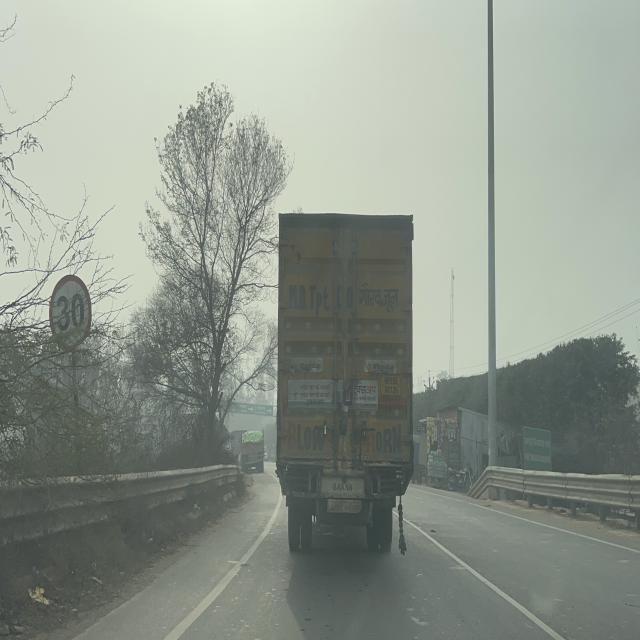SPEED_LIMIT_30: (49, 274, 92, 352)
